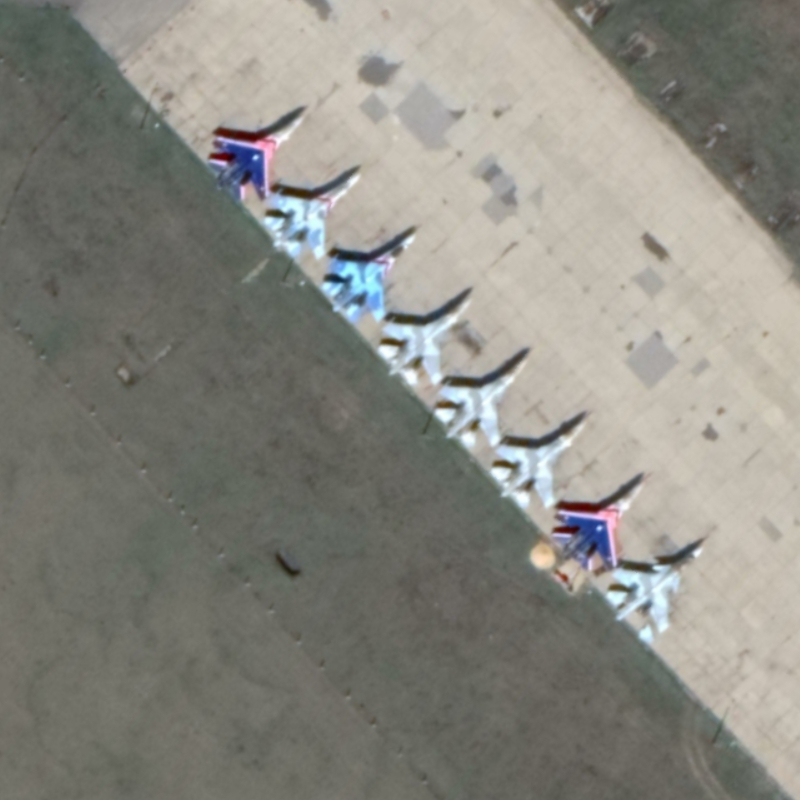A1: (202, 100, 313, 209), (479, 409, 594, 513), (546, 468, 656, 576), (373, 285, 479, 392), (433, 346, 538, 453), (258, 163, 368, 265), (317, 224, 423, 328)
A19: (590, 534, 713, 648)
